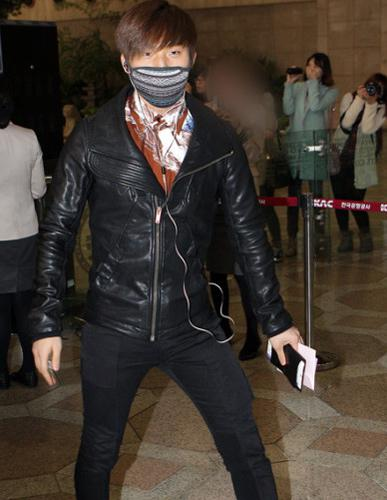NONE: (306, 64, 323, 81)
OK: (128, 34, 191, 102)
